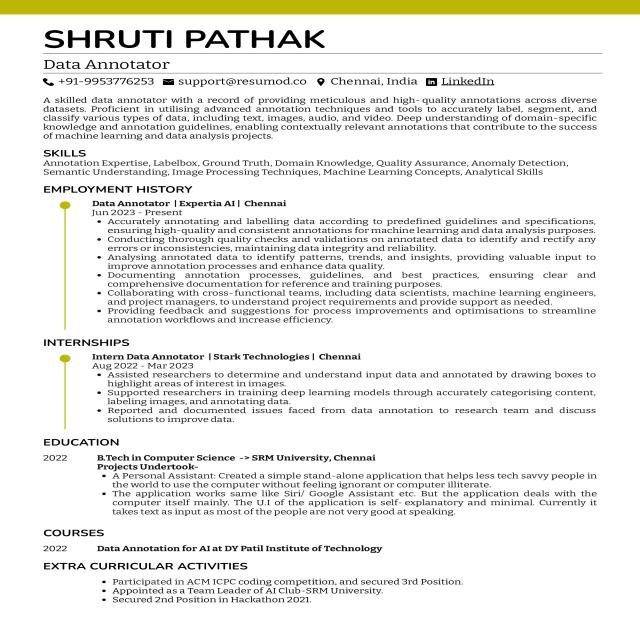contact: (43, 75, 313, 88), (315, 76, 495, 87)
education: (36, 435, 616, 556)
experience: (37, 184, 612, 430)
header: (34, 15, 327, 72)
skills: (35, 147, 582, 182)
summary: (36, 96, 604, 141)
